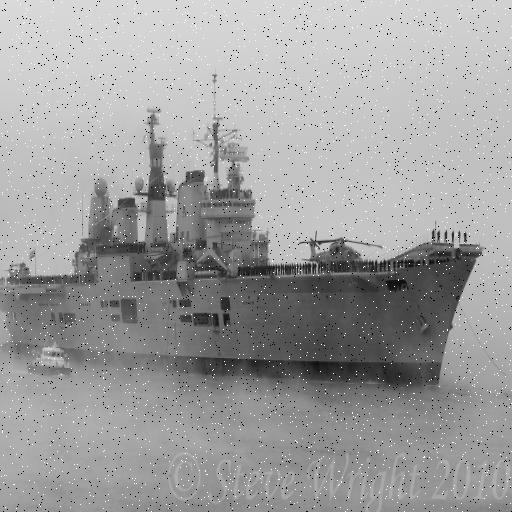Portanaves: (1, 62, 485, 397)
